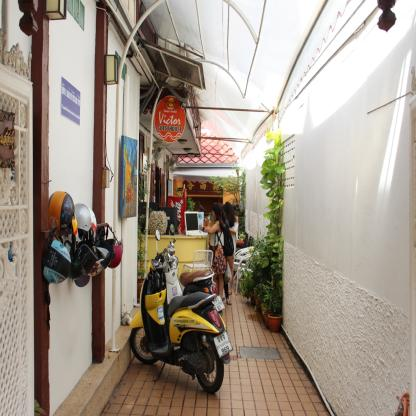Helmet: (44, 192, 78, 242), (42, 232, 71, 287), (76, 238, 111, 281), (72, 202, 102, 248), (96, 223, 126, 269)
